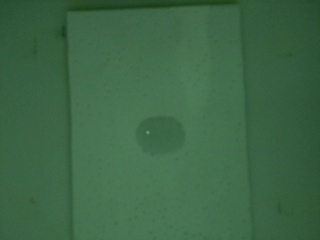Water_detected: (152, 123, 191, 154)
